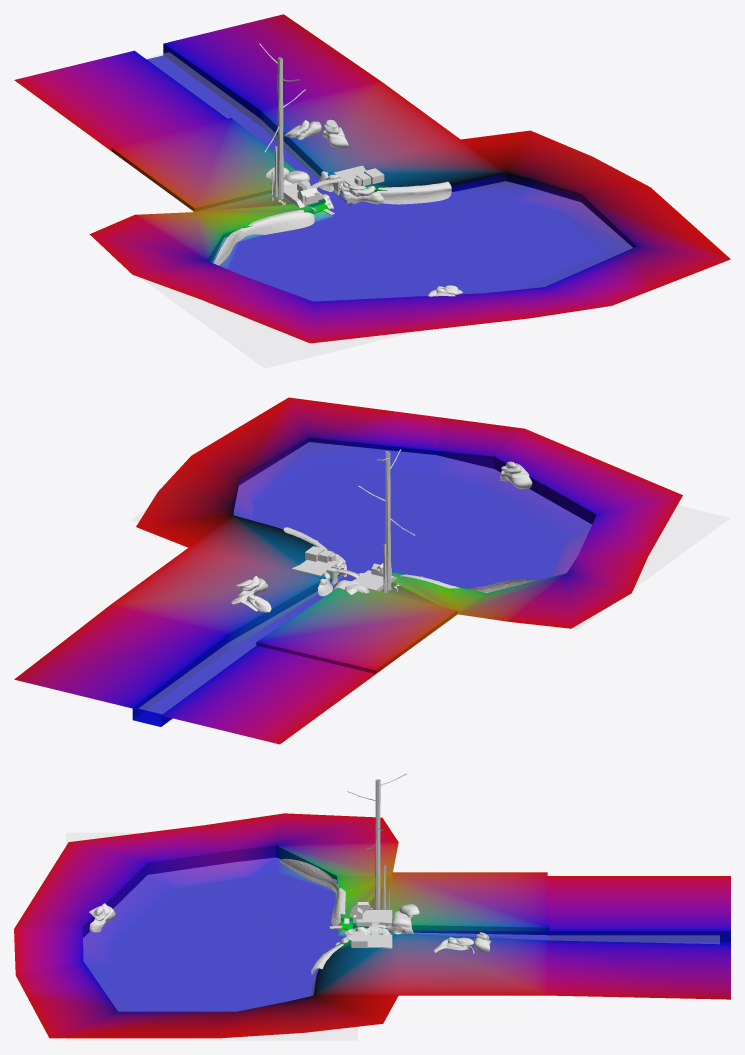
Rendered from GoneWitchinEnvironmentStandin.fbx.
3 renders of one model, top to bottom at view 1: azimuth 30°, elevation 25°; view 2: azimuth 150°, elevation 25°; view 3: azimuth 270°, elevation 25°, orthographic. The views are drawn at different scales.
Parts seen in each view (by area): view 1: Plane.001, Plane.003, Plane.002, Plane.010, TrunkLarge; view 2: Plane.001, Plane.003, TrunkLarge, Plane.002, Plane.012; view 3: Plane.001, Plane.003, Plane.002, TrunkLarge, Cube, Plane.012.
Boxes of the visible parts, box(x1,y1,x2,y2) form: Plane.001: box(14, 14, 730, 343); Plane.003: box(110, 52, 632, 368); Plane.002: box(214, 210, 314, 265); Plane.010: box(376, 181, 451, 204); TrunkLarge: box(259, 43, 305, 199); Plane.001: box(14, 397, 682, 744); Plane.003: box(131, 442, 729, 713); TrunkLarge: box(358, 449, 415, 590); Plane.002: box(400, 574, 537, 592); Plane.012: box(500, 461, 532, 489); Plane.001: box(14, 813, 730, 1038); Plane.003: box(66, 833, 719, 1040); Plane.002: box(280, 858, 345, 925); TrunkLarge: box(347, 773, 406, 909); Cube: box(356, 910, 392, 926); Plane.012: box(89, 903, 115, 932).
Bounding box in the file's own units: 358 × 111 × 490.
